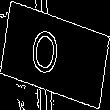O_S: (38, 25, 72, 85)
